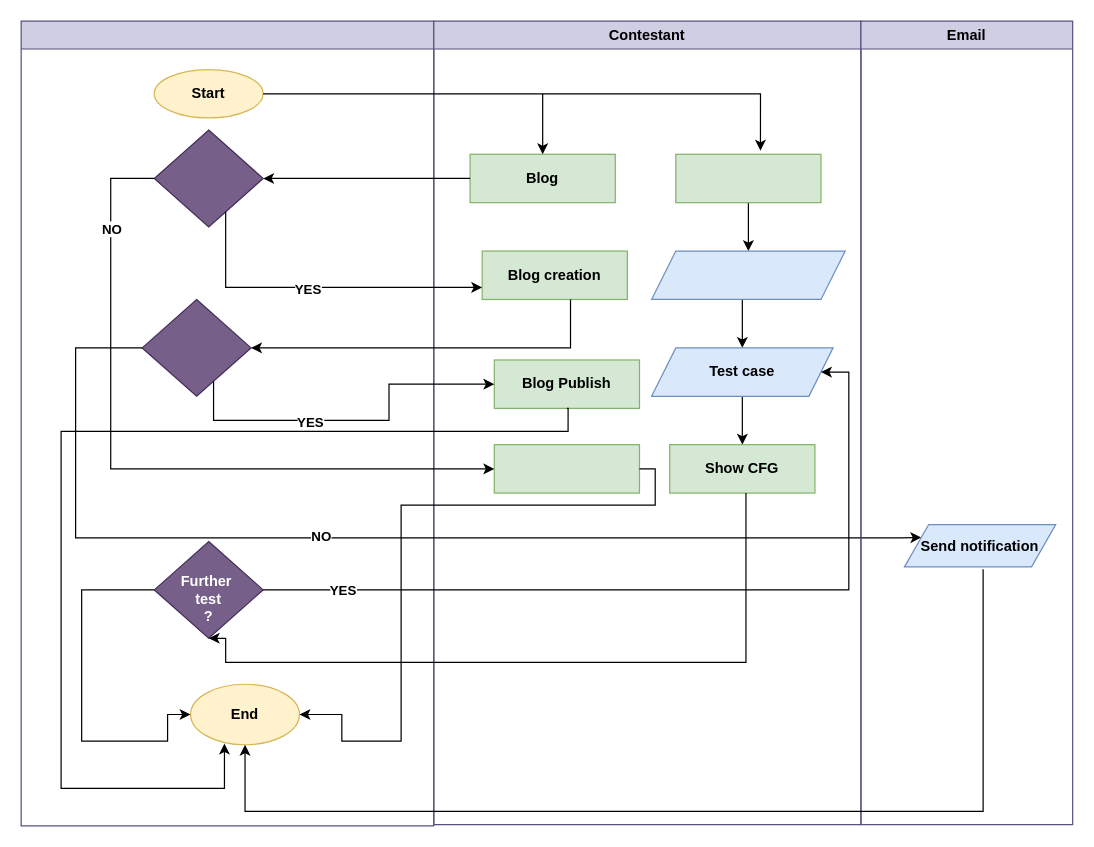
Some shapes in this 1094 by 847 pixel diagram are drawn without their labels. Each missing label, with the box of its shape:
Agree privacy policy?: (141, 298, 251, 396)
Input Problem Id: (650, 250, 845, 299)
Read Blogs, can react, comment: (493, 443, 639, 493)
Solution Visualization: (675, 153, 821, 203)
System: (20, 20, 434, 826)
Write blog?: (153, 129, 263, 227)
